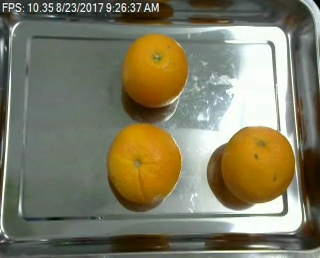Orange: (107, 124, 183, 204), (220, 125, 296, 204), (120, 33, 187, 106)
